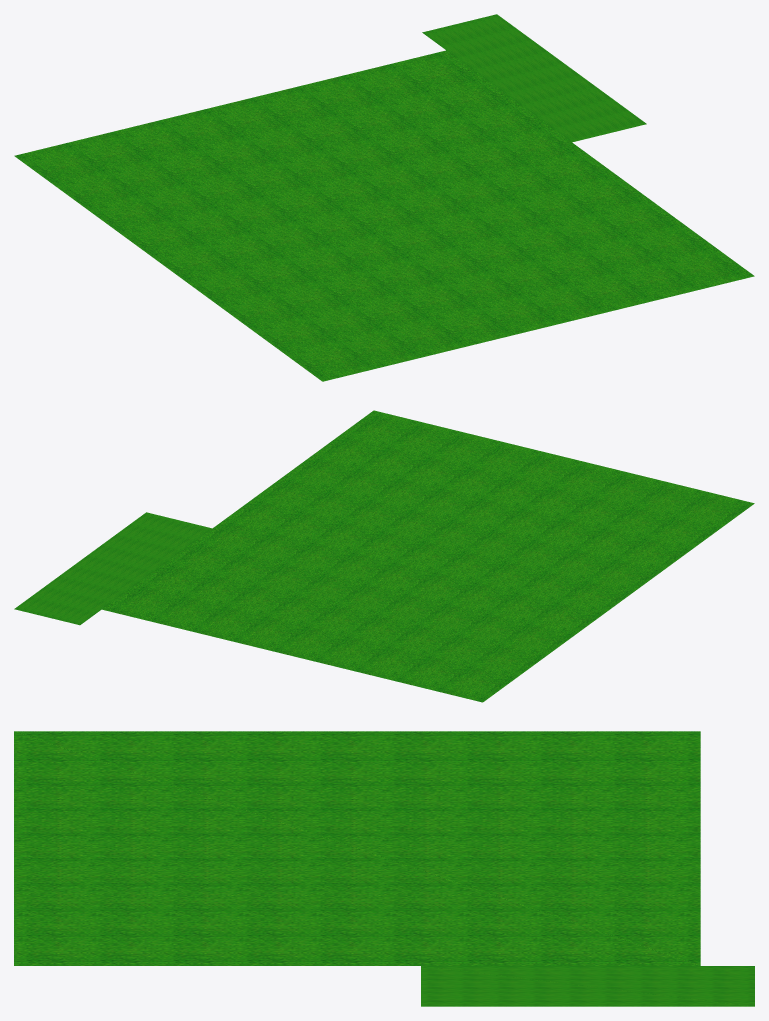
File: grass.glb
3 views of the same model, one above another, from view 1: azimuth 30°, elevation 25°; view 2: azimuth 150°, elevation 25°; view 3: azimuth 270°, elevation 25° (orthographic). The views are drawn at different scales.
Parts seen in each view (by area): view 1: Plane.019, Plane.018; view 2: Plane.019, Plane.018; view 3: Plane.019, Plane.018.
Boxes of the visible parts, left/top/right/bottom form: Plane.019: left=14, top=50, right=754, bottom=381; Plane.018: left=422, top=14, right=646, bottom=142; Plane.019: left=102, top=410, right=754, bottom=702; Plane.018: left=14, top=512, right=211, bottom=625; Plane.019: left=14, top=731, right=700, bottom=965; Plane.018: left=421, top=966, right=754, bottom=1006.
Bounding box in the file's own units: 38987 × 0.000305 × 44320.
2 materials, 2 textured.
